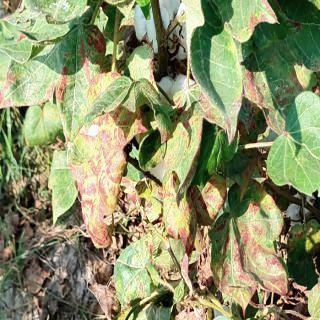blight: (69, 121, 132, 261), (211, 211, 296, 312), (163, 166, 230, 253), (60, 21, 122, 97), (117, 236, 163, 309)
